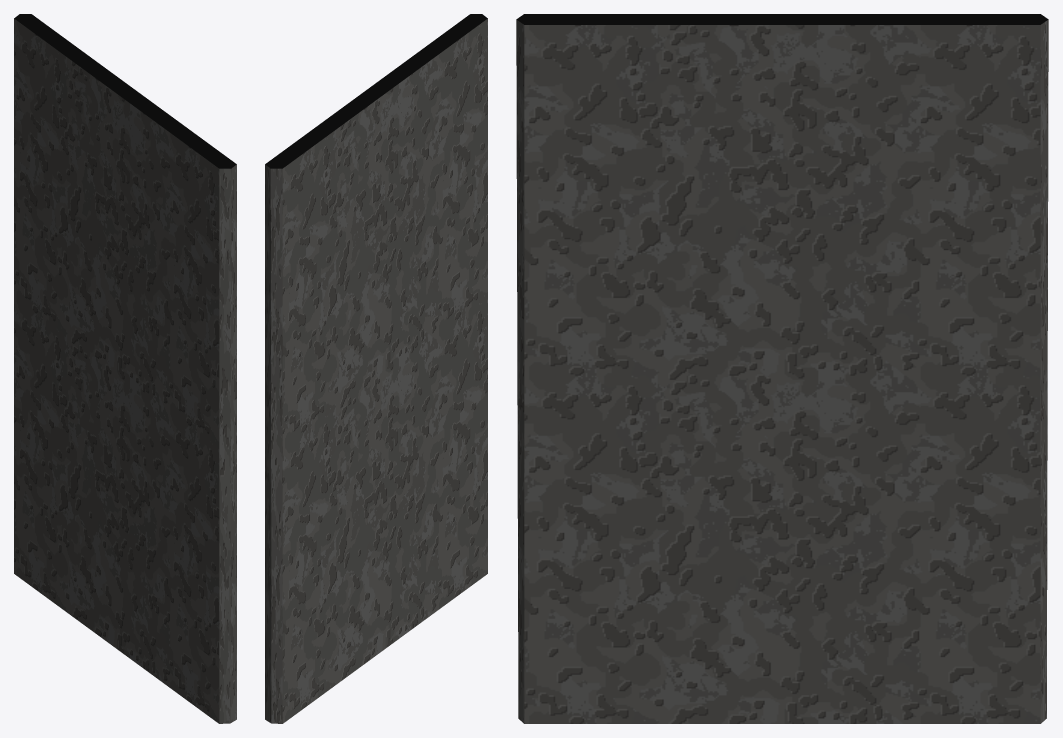
Rendered from Wall_1x1.fbx.
The picture shows the model from 3 angles, left to right: view 1: azimuth 30°, elevation 25°; view 2: azimuth 150°, elevation 25°; view 3: azimuth 270°, elevation 25°; orthographic projection. The views are drawn at different scales.
Parts seen in each view (by area): view 1: Wall; view 2: Wall; view 3: Wall.
Part boxes in pixels (x1,y1,x2,y2): Wall: [14, 14, 236, 723]; Wall: [265, 14, 487, 723]; Wall: [516, 14, 1048, 723].
Size of the model in its own units: 10 by 300 by 207.
